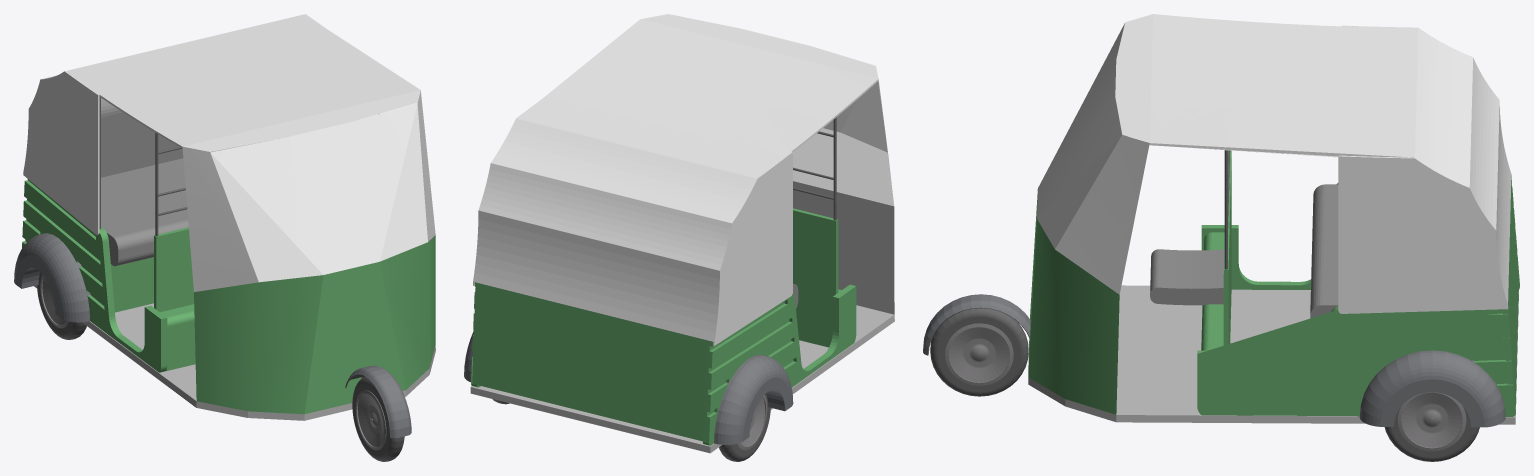
Rendered from tuktuk.fbx.
3 views of the same model, side by side, from view 1: azimuth 30°, elevation 25°; view 2: azimuth 150°, elevation 25°; view 3: azimuth 270°, elevation 25° (orthographic). The views are drawn at different scales.
Parts seen in each view (by area): view 1: 223 011, 215 011, 206 011; view 2: 223 011, 206 011; view 3: 223 011, 215 011, 205 011.
Boxes of the visible parts, <box> form: 223 011: <box>14,14,435,438</box>; 215 011: <box>352,376,404,461</box>; 206 011: <box>37,272,86,339</box>; 223 011: <box>464,14,894,453</box>; 206 011: <box>719,394,770,461</box>; 223 011: <box>923,14,1519,427</box>; 215 011: <box>930,308,1028,396</box>; 205 011: <box>1384,392,1479,461</box>.
Bounding box in the file's own units: 7119 × 6992 × 11921.
